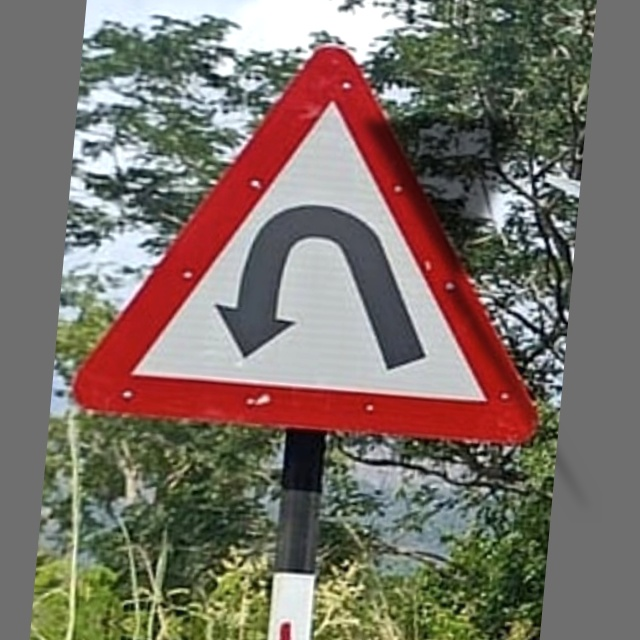Left_Hair_Pin_Bend: (79, 36, 562, 450)
